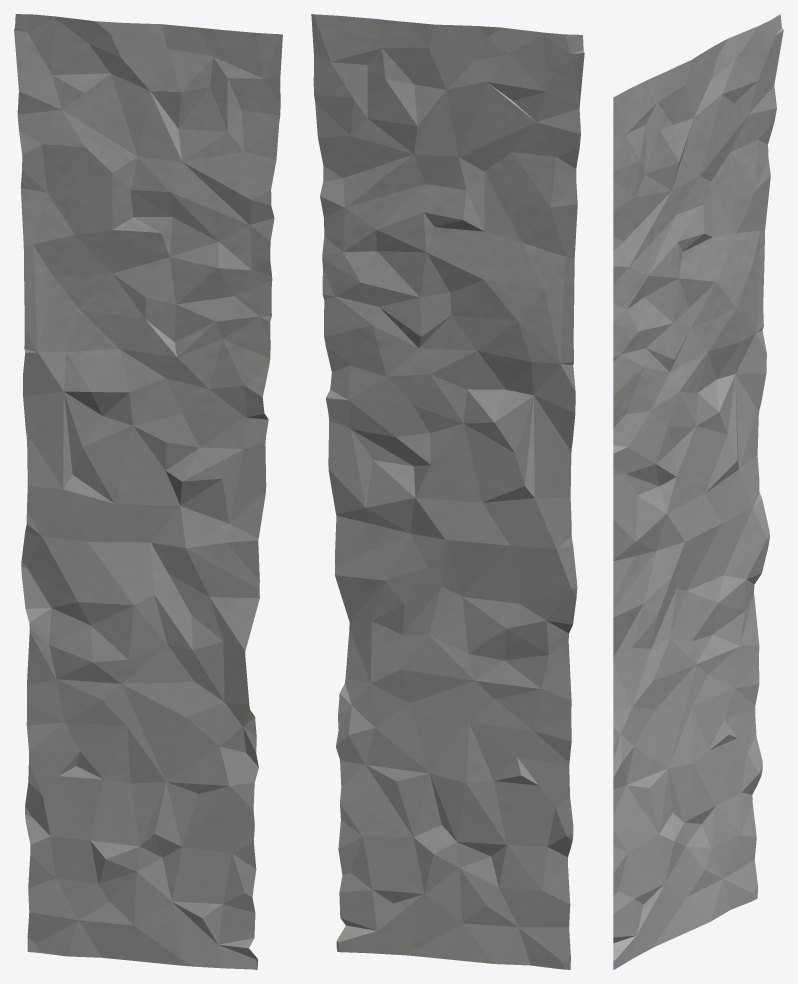
The picture shows the model from 3 angles, left to right: view 1: azimuth 30°, elevation 25°; view 2: azimuth 210°, elevation 25°; view 3: azimuth 270°, elevation 25°; orthographic projection. The views are drawn at different scales.
Size of the model in its own units: 0.1692 by 0.8374 by 0.1464.
Materials: 1 (1 with a texture image).
